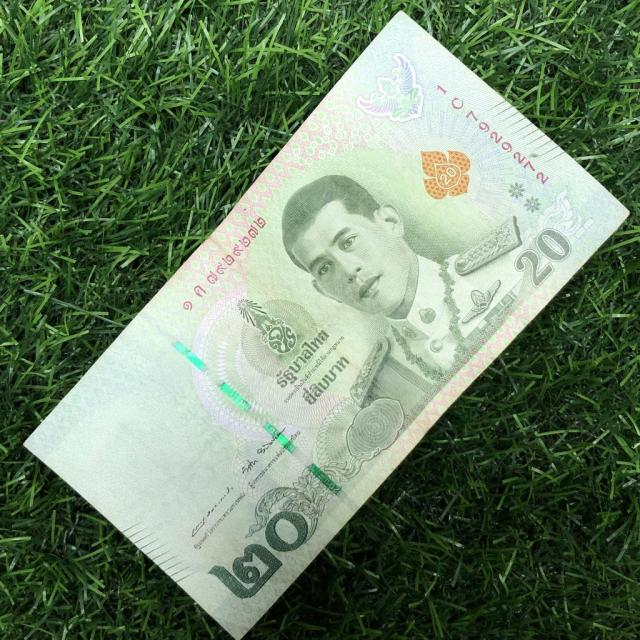THAI20: (24, 13, 629, 639)
